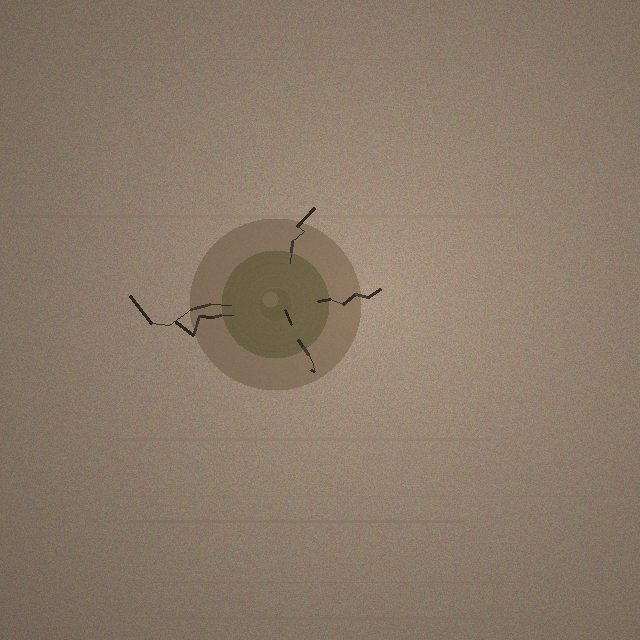crack: (189, 218, 361, 390)
